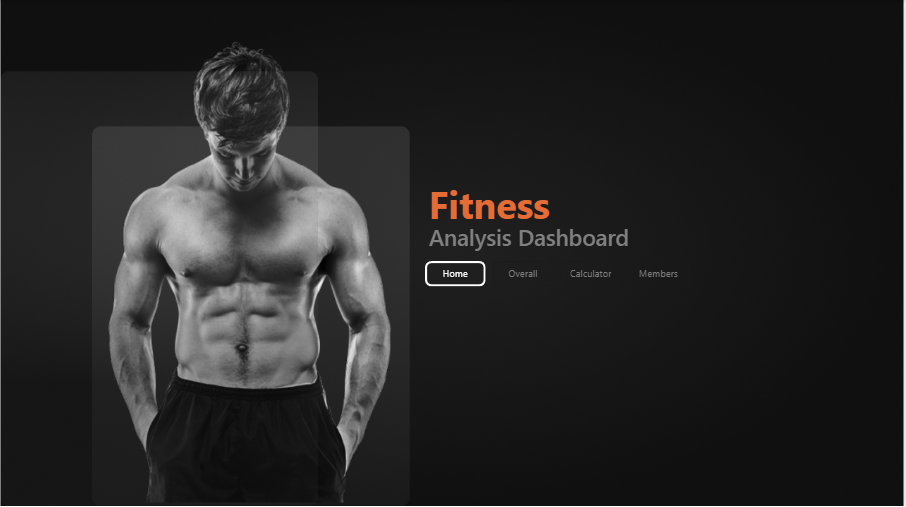

What the dashboard file says about the page in this screenshot:
{"tool":"powerbi","page":{"name":"Home","canvas":[1280,720],"ordinal":0},"visuals":[{"type":"shape","box":[602.4,248,214,70.9],"z":0},{"type":"shape","box":[602.4,299.1,474.8,70.9],"z":1000},{"type":"pageNavigator","box":[602.4,369.9,374.2,36.9],"z":2000}]}

Visuals, with their boxes in screenshot pixels (x1, y1, x2, y2), scaled from the page's 1280x720 canvas onto the 906x507 screenshot:
shape: bbox=[426, 175, 578, 225]
shape: bbox=[426, 211, 762, 261]
pageNavigator: bbox=[426, 260, 691, 286]
